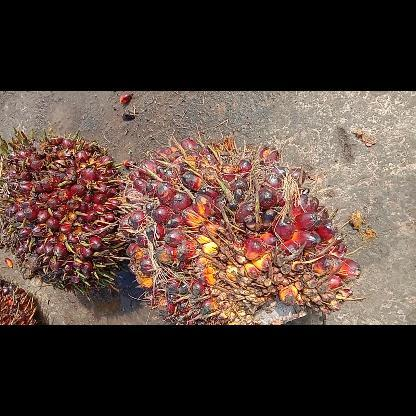Kurang masak: (0, 128, 130, 294)
TBS masak: (110, 126, 364, 324)
